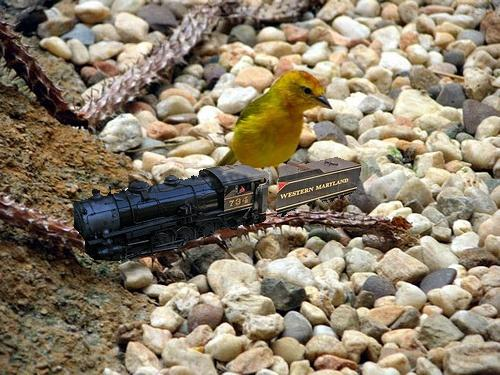tampered: (75, 158, 361, 261)
